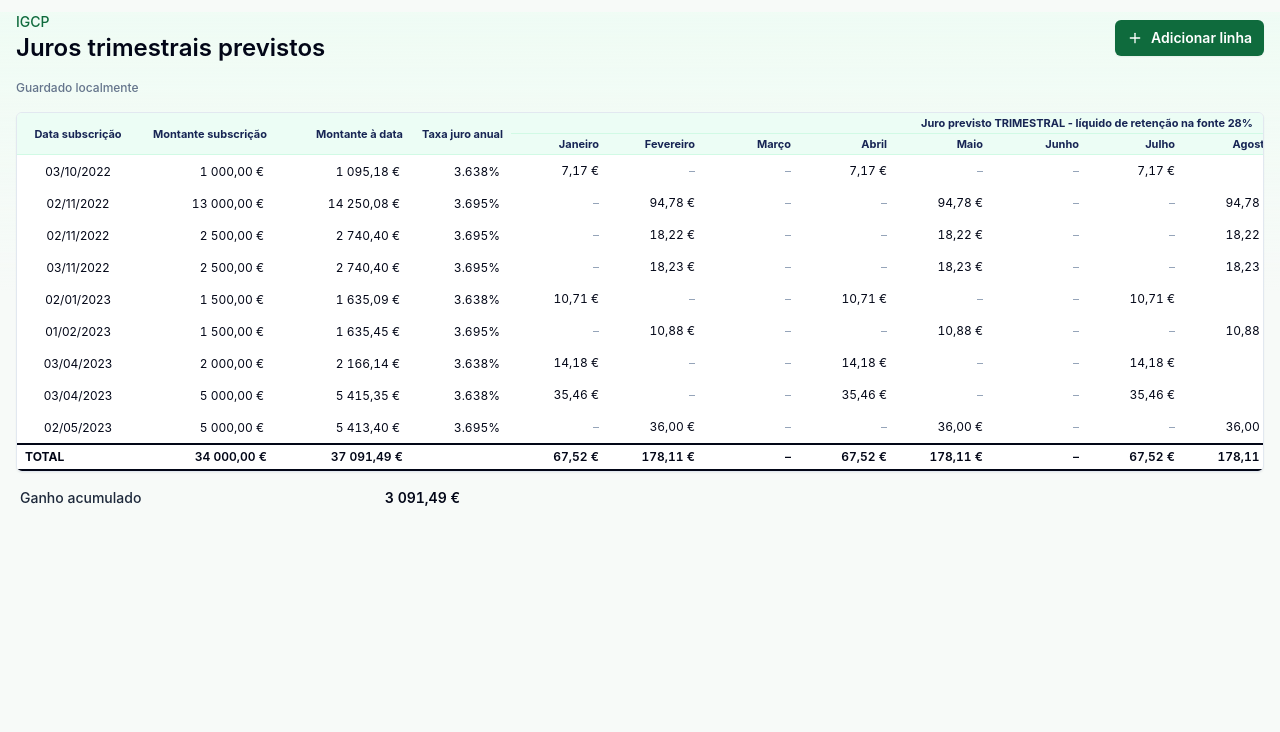
Test case: IgcpManagement › recalculates interest and totals when editable fields are committed
Step 1. Replace the text in the field named "Montante à data da linha 1" with "2000" → (343, 171), box [279, 157, 407, 185]
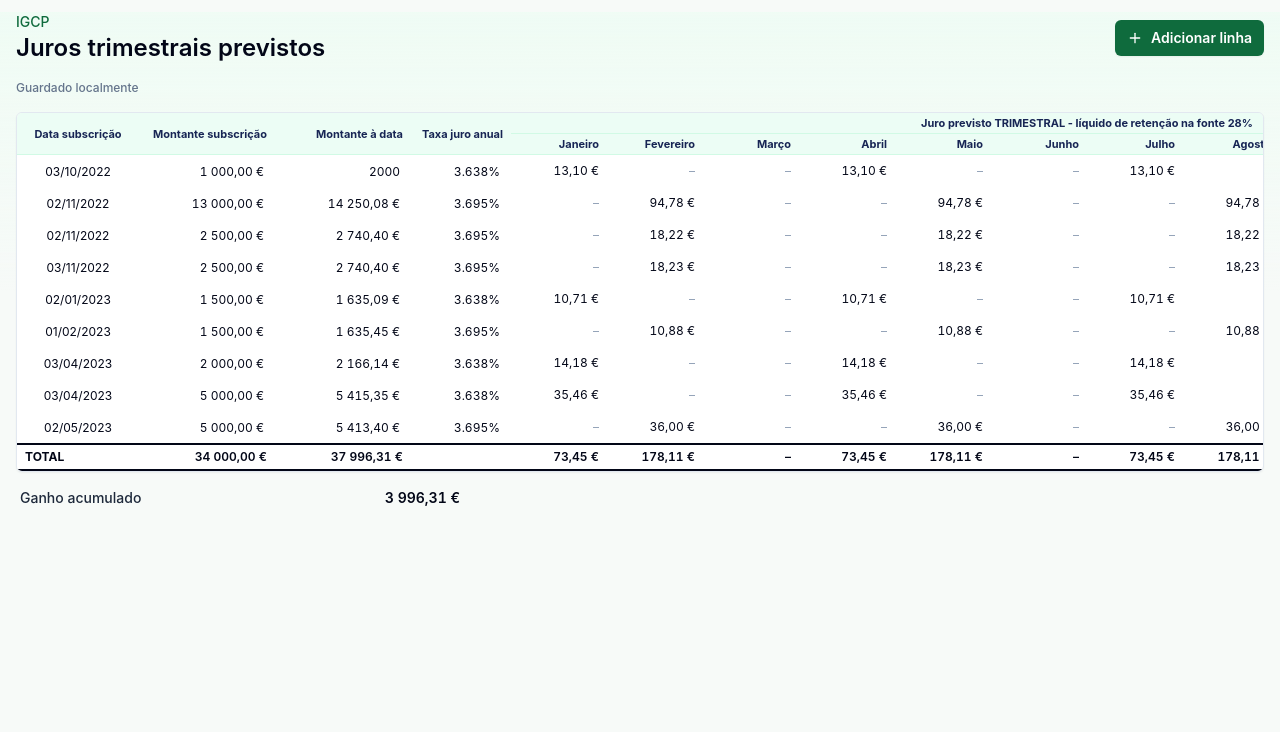
Step 2. Leave the field named "Montante à data da linha 1", box [279, 157, 407, 185]
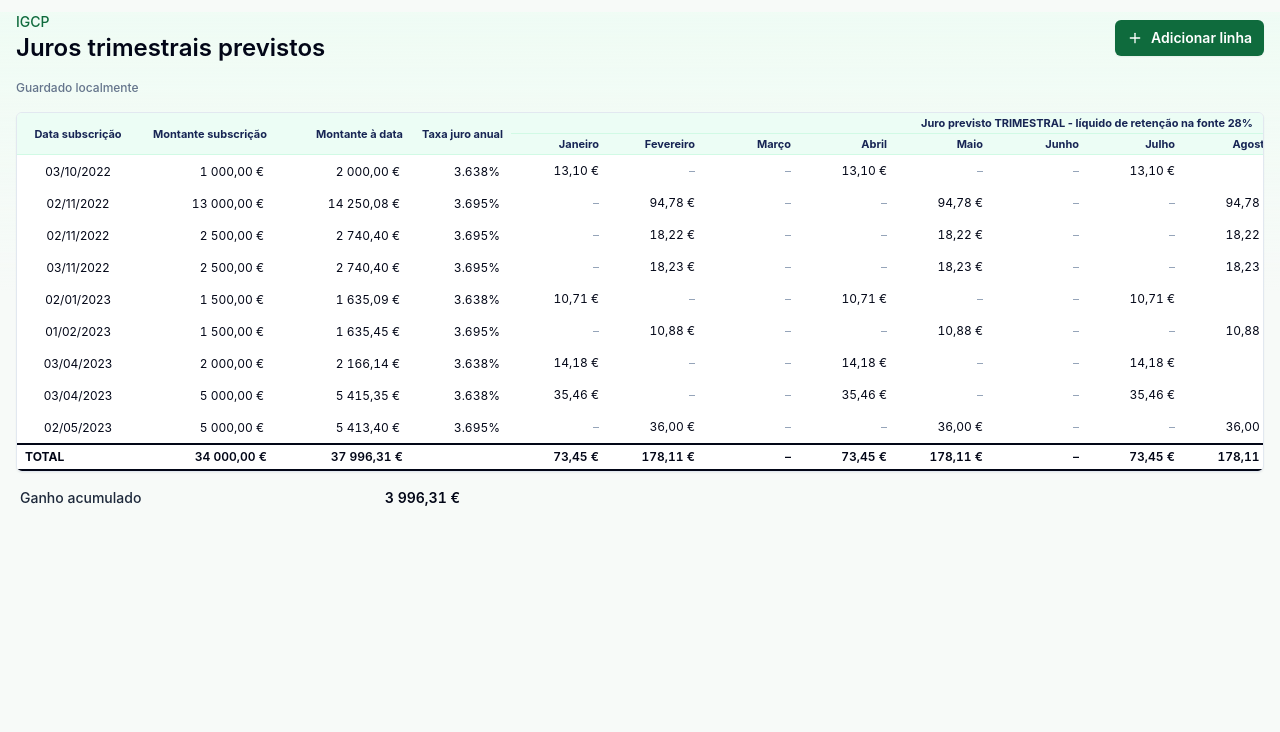
Expected: the cell with test id "igcp-interest-igcp-initial-1-january" reads "13,10 €", [553, 163, 599, 178]
Expected: the cell with test id "igcp-interest-igcp-initial-1-april" reads "13,10 €", [841, 163, 887, 178]
Expected: the field named "Montante à data da linha 1" holds "2 000,00 €", [279, 157, 407, 185]
